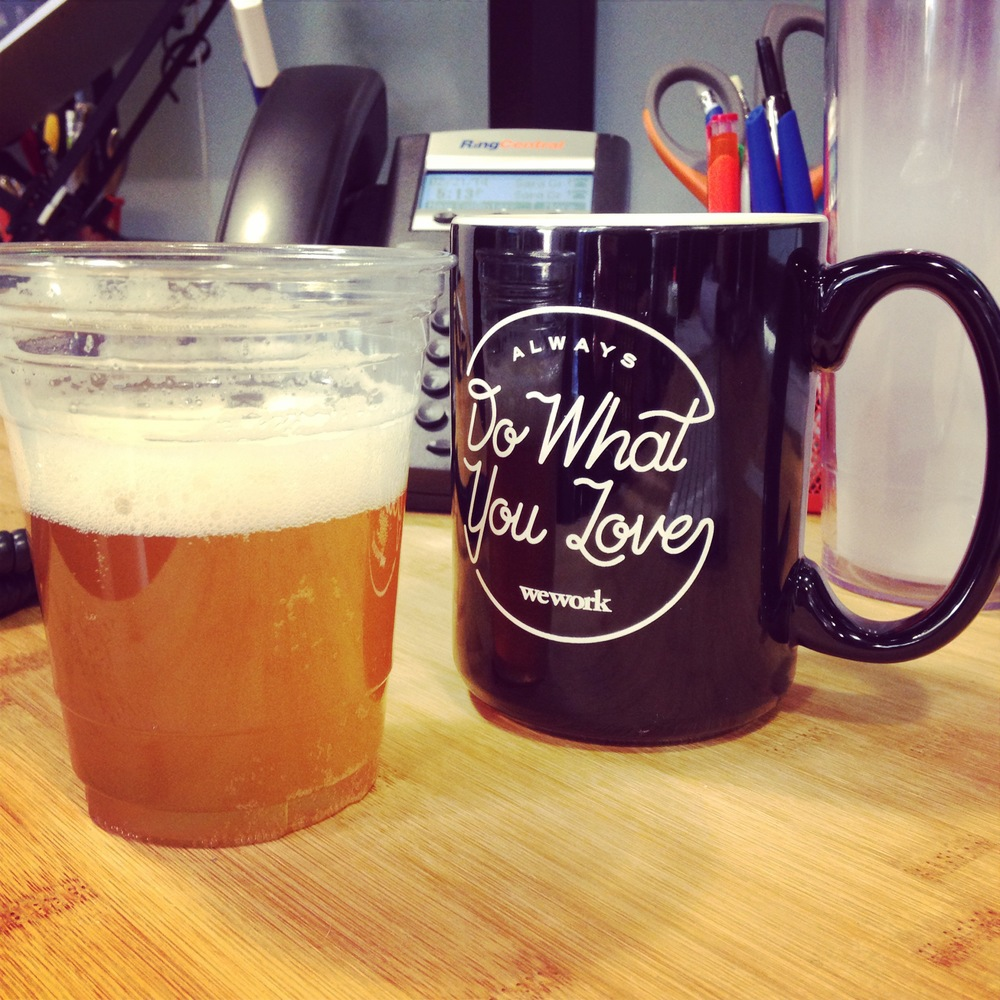wework: (517, 577, 618, 617)
